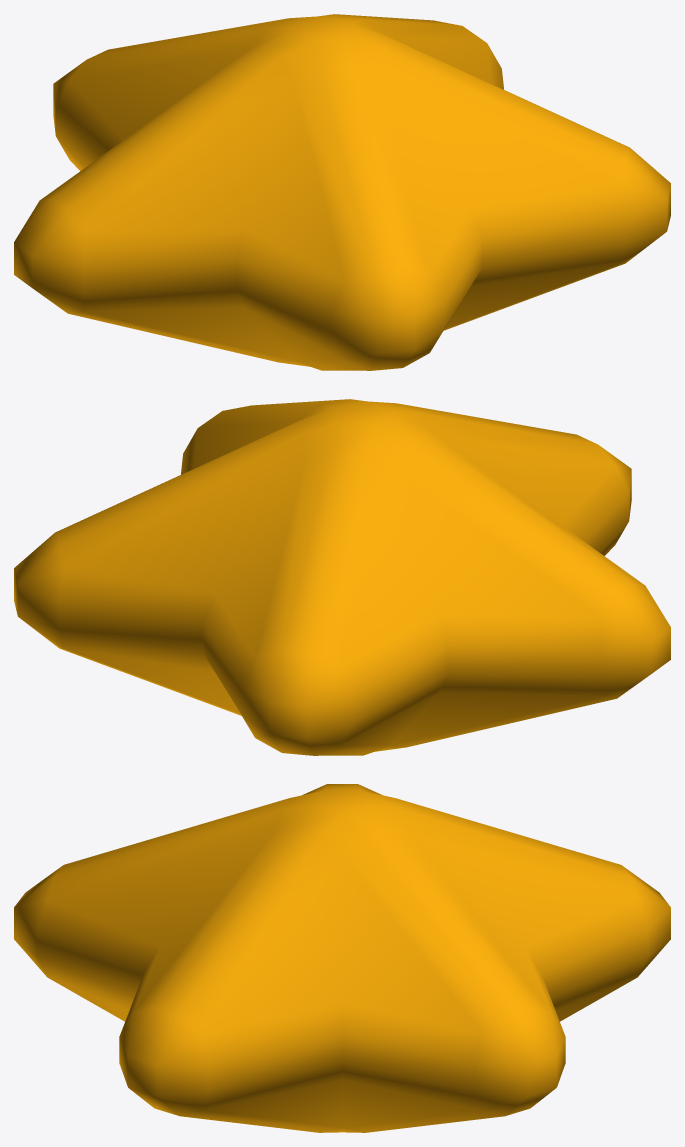
File: star.fbx
The picture shows the model from 3 angles, top to bottom: view 1: azimuth 30°, elevation 25°; view 2: azimuth 150°, elevation 25°; view 3: azimuth 270°, elevation 25°; orthographic projection. The views are drawn at different scales.
Parts seen in each view (by area): view 1: Star; view 2: Star; view 3: Star.
Boxes of the visible parts, x1,y1,x2,y2 form: Star: (14, 14, 670, 370); Star: (14, 399, 670, 755); Star: (14, 784, 670, 1132).
Size of the model in its own units: 57.64 by 32.34 by 60.6.
